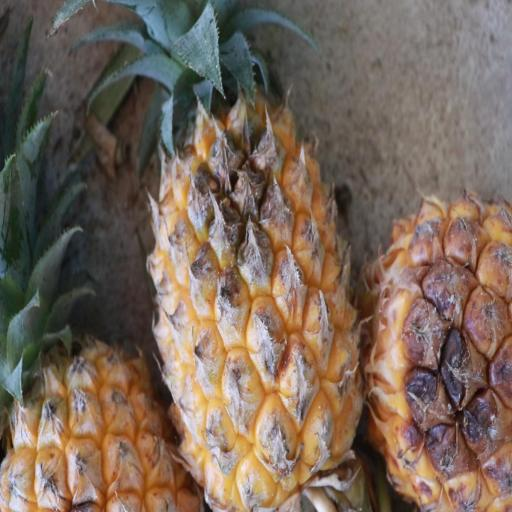Pineapple - v8 v1: (145, 42, 364, 512), (0, 187, 200, 512), (357, 175, 512, 512)
